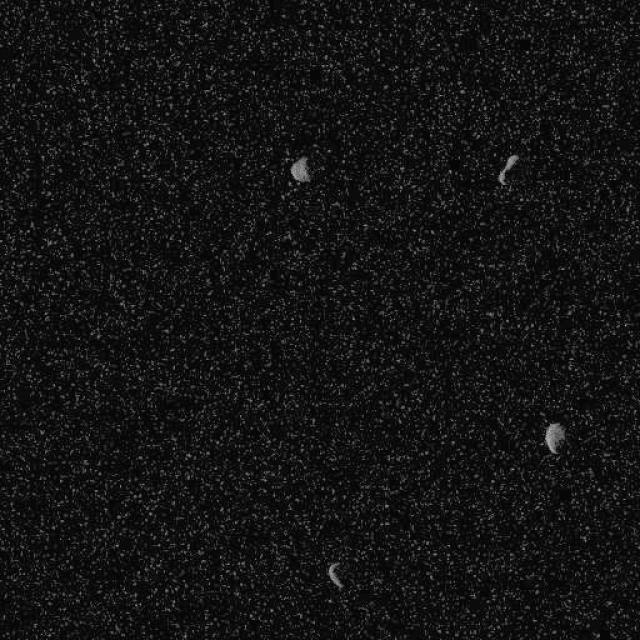D2: (496, 153, 519, 185), (544, 421, 565, 454), (289, 155, 311, 183), (326, 560, 344, 589)
